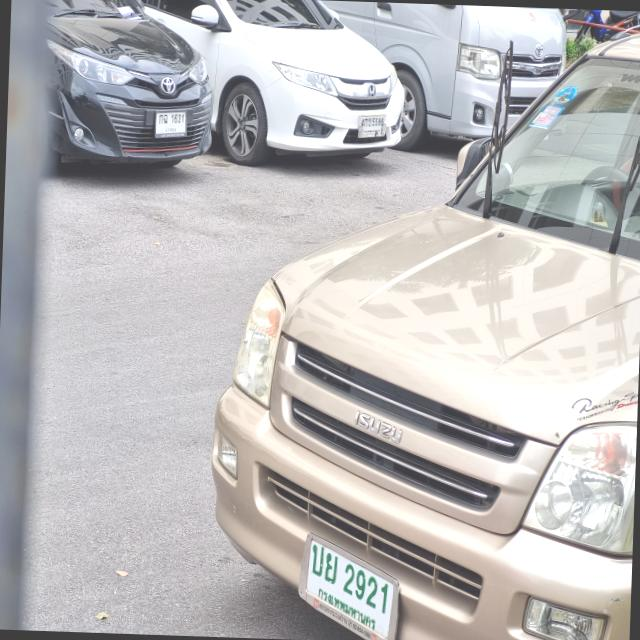license_plate: (296, 528, 401, 640), (153, 106, 189, 139), (357, 113, 390, 140)
